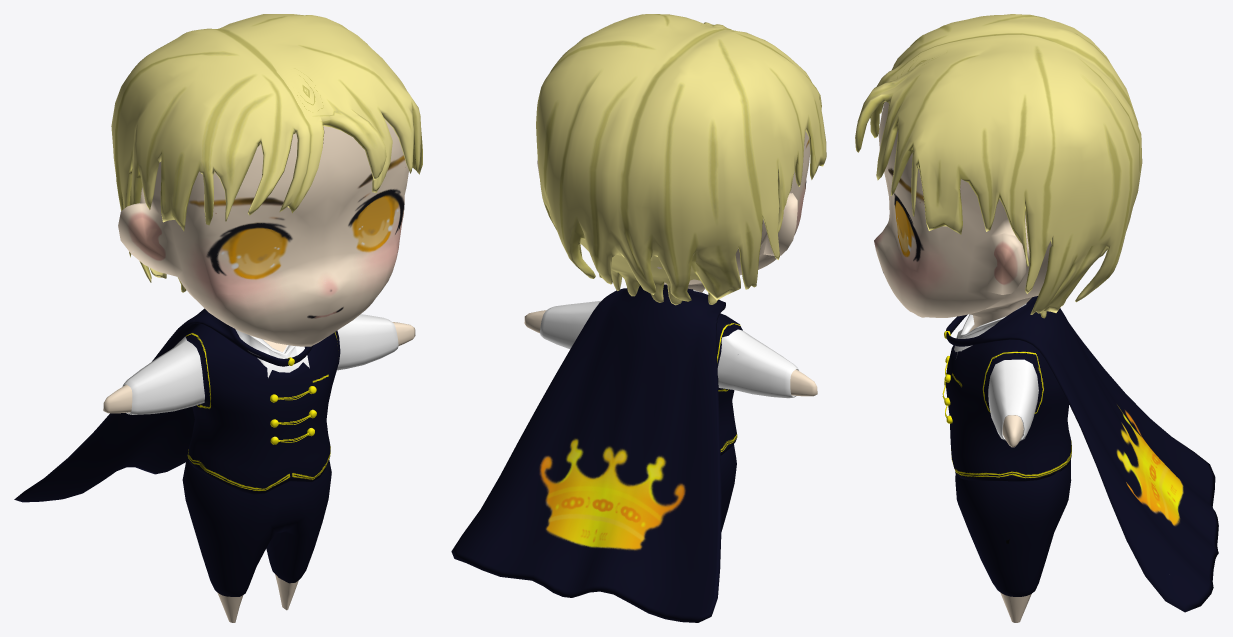
3 renders of one model, left to right at view 1: azimuth 30°, elevation 25°; view 2: azimuth 150°, elevation 25°; view 3: azimuth 270°, elevation 25°, orthographic. The views are drawn at different scales.
Visible parts, largest first — view 1: body:headusOBJexport, hair:headusOBJexport, boy1:face; view 2: body:headusOBJexport, hair:headusOBJexport, boy1:face; view 3: hair:headusOBJexport, body:headusOBJexport, boy1:face.
Boxes of the visible parts, x1=… form: body:headusOBJexport: x1=14, y1=308, x2=415, y2=622; hair:headusOBJexport: x1=111, y1=14, x2=422, y2=292; boy1:face: x1=118, y1=120, x2=408, y2=346; body:headusOBJexport: x1=451, y1=284, x2=817, y2=622; hair:headusOBJexport: x1=536, y1=14, x2=826, y2=305; boy1:face: x1=537, y1=131, x2=810, y2=292; hair:headusOBJexport: x1=855, y1=14, x2=1142, y2=318; body:headusOBJexport: x1=942, y1=296, x2=1218, y2=622; boy1:face: x1=874, y1=101, x2=1051, y2=328.
Size of the model in its own units: 8.7 by 15.52 by 9.01.
3 materials, 3 textured.
